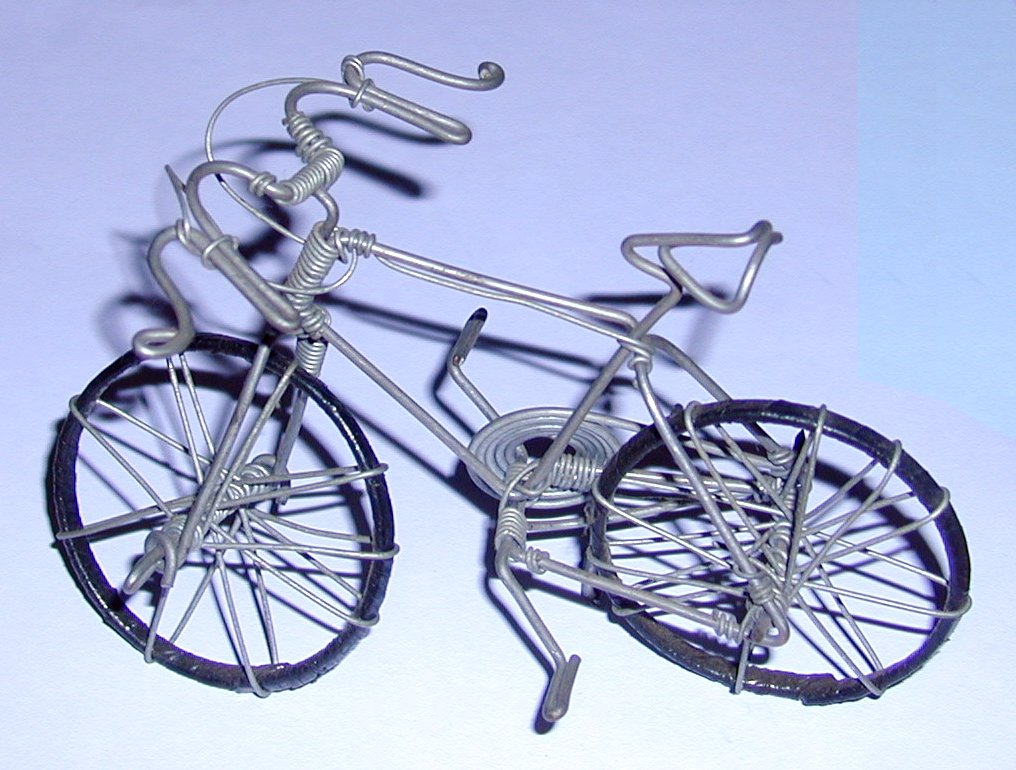Bicycle: (24, 45, 1015, 763)
